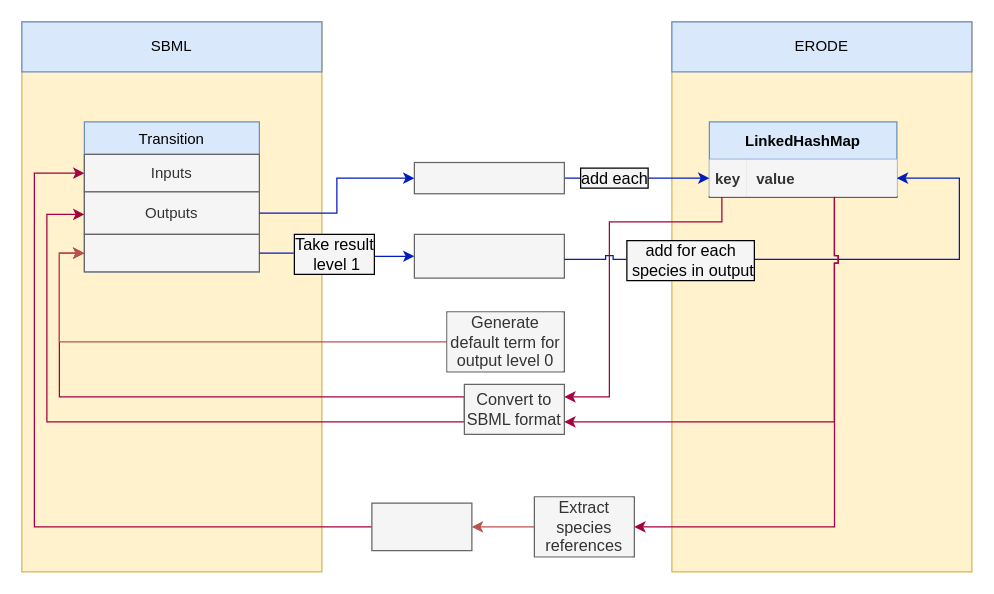
Some shapes in this 994 by 594 pixel diagram are drawn without their labels. The centre of each missing label's shape, as x and y in pixels:
"Convert to ERODE AST" belongs at (x=488, y=255).
"Extract Species IDs" belongs at (x=488, y=177).
"FunctionTerms" belongs at (x=171, y=252).
"Generate Inputs" belongs at (x=421, y=526).
